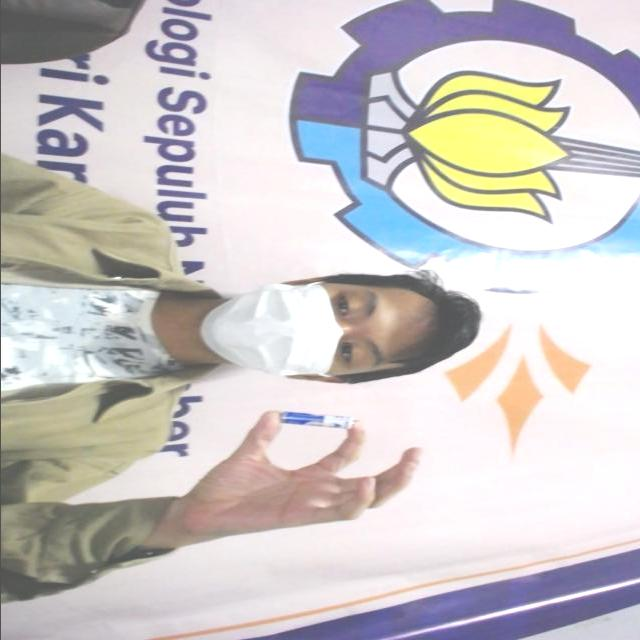AA: (264, 406, 362, 435)
